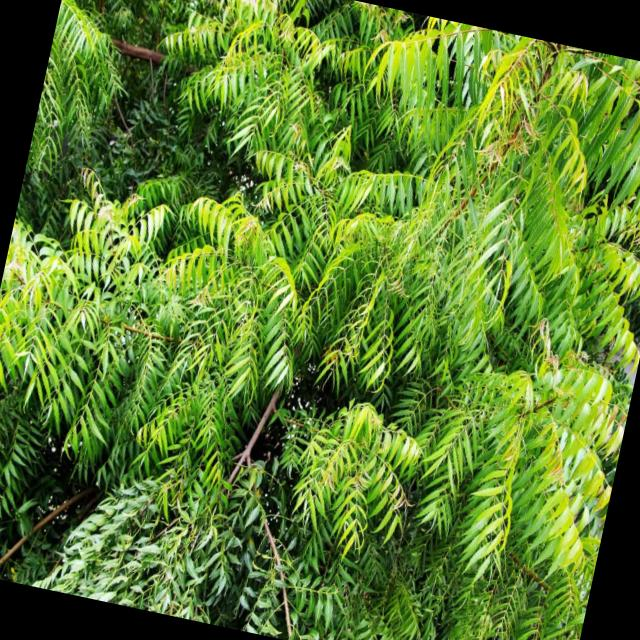Medicinal-Neem: (0, 157, 330, 518), (345, 13, 640, 255), (413, 323, 639, 608), (161, 0, 356, 186), (267, 383, 444, 584)
